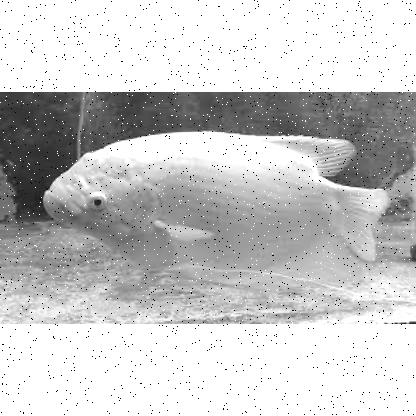gurame: (42, 128, 386, 282)
